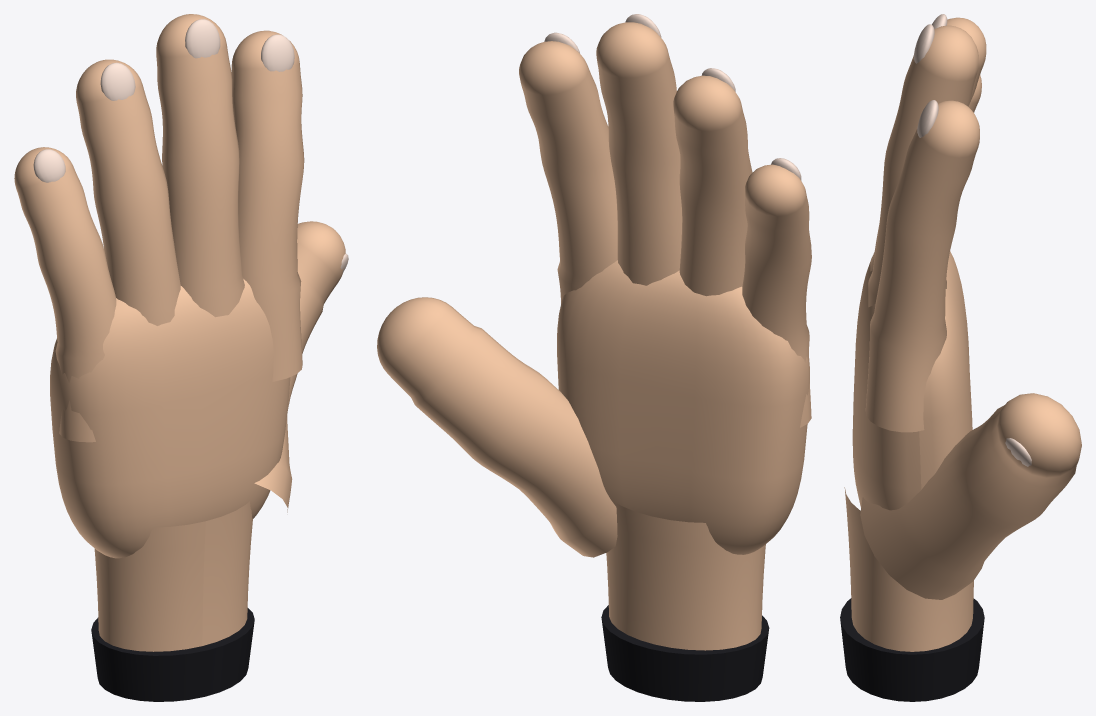
Rendered from hand-left-open.glb.
3 renders of one model, left to right at view 1: azimuth 30°, elevation 25°; view 2: azimuth 150°, elevation 25°; view 3: azimuth 270°, elevation 25°, orthographic. The views are drawn at different scales.
Visible parts, largest first — view 1: hand-left-open; view 2: hand-left-open; view 3: hand-left-open.
Boxes of the visible parts, x1,y1,x2,y2 form: hand-left-open: (14,14,348,701); hand-left-open: (377,14,811,701); hand-left-open: (840,14,1081,701).
Bounding box in the file's own units: 0.1264 × 0.2105 × 0.0699.
